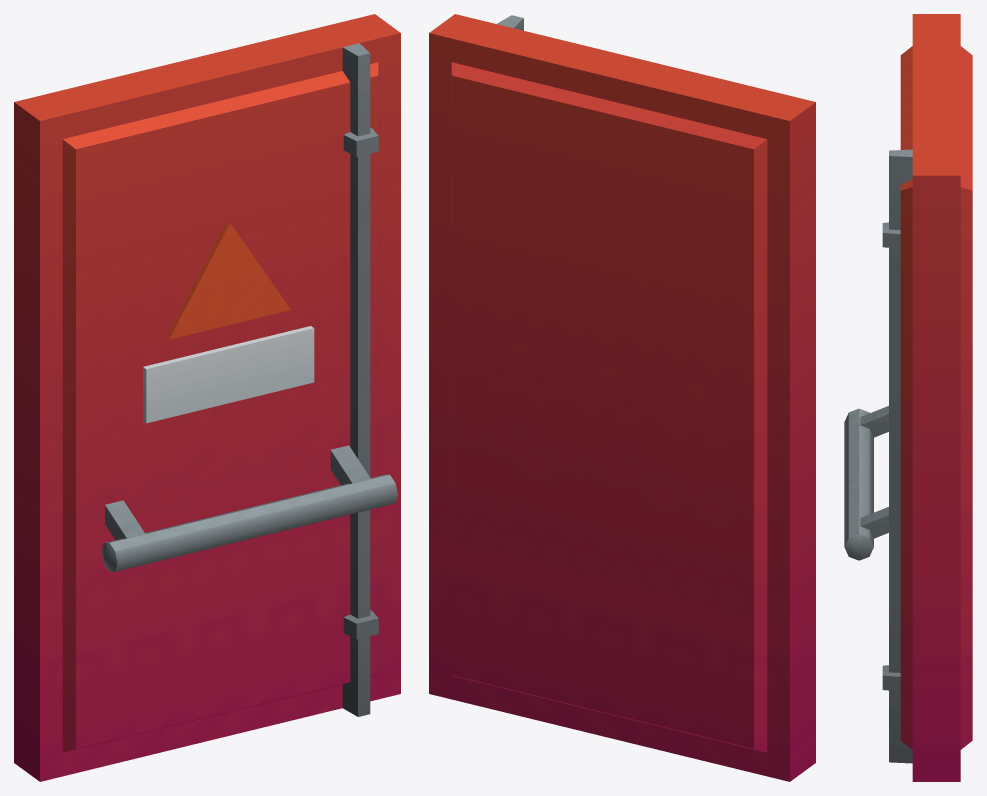
File: Door_B.gltf
3 renders of one model, left to right at view 1: azimuth 30°, elevation 25°; view 2: azimuth 150°, elevation 25°; view 3: azimuth 270°, elevation 25°, orthographic. The views are drawn at different scales.
Parts seen in each view (by area): view 1: Door_B; view 2: Door_B; view 3: Door_B.
Part boxes in pixels (left/top/right/bottom): Door_B: left=14, top=14, right=400, bottom=781; Door_B: left=429, top=14, right=815, bottom=781; Door_B: left=844, top=14, right=972, bottom=781.
Size of the model in its own units: 1.6 by 2.8 by 0.5357.
Materials: 1 (1 with a texture image).
